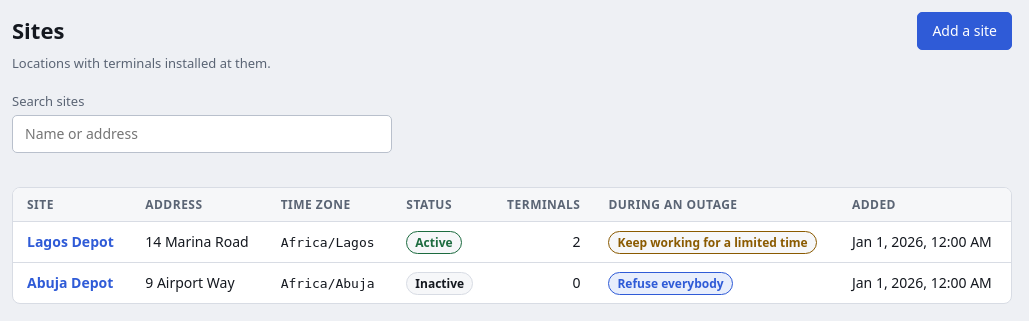
Test: searching sites › sends the term to the API rather than filtering what it already holds
Check: the link "Lagos Depot" is shown, box x1=27 y1=230 x2=114 y2=254
In the search field labelled "Search sites": [202, 134] box x1=12 y1=115 x2=392 y2=153, type "Abuja"
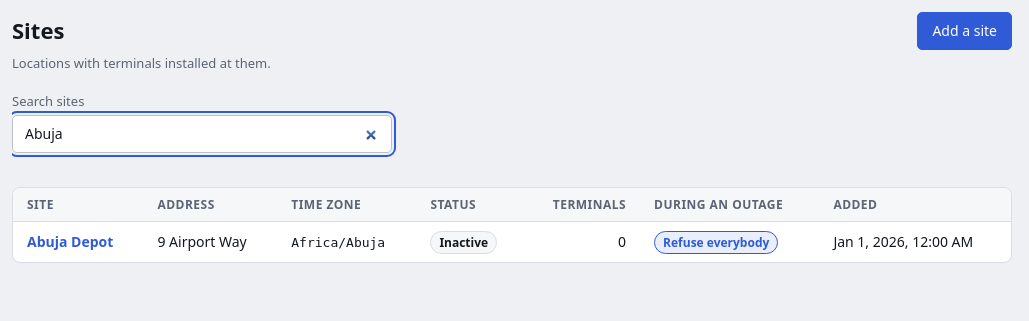
Check: the link "Abuja Depot" is shown, box x1=27 y1=230 x2=113 y2=254
Check: the link "Lagos Depot" is gone
